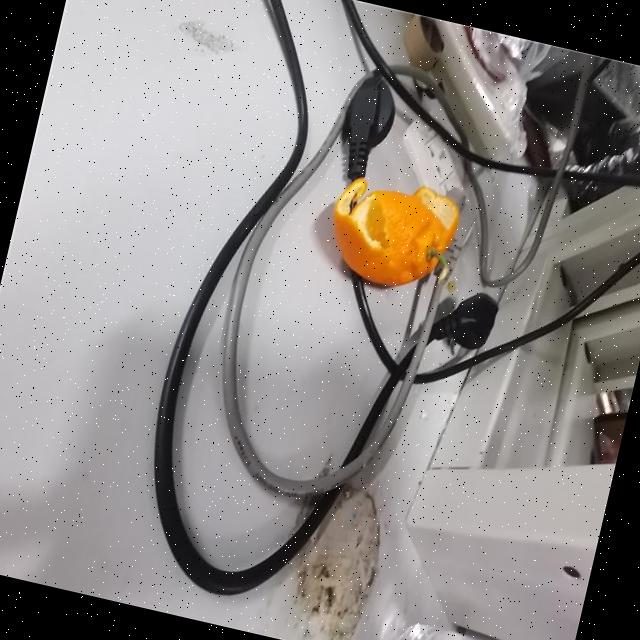orange-peel: (317, 164, 465, 300)
